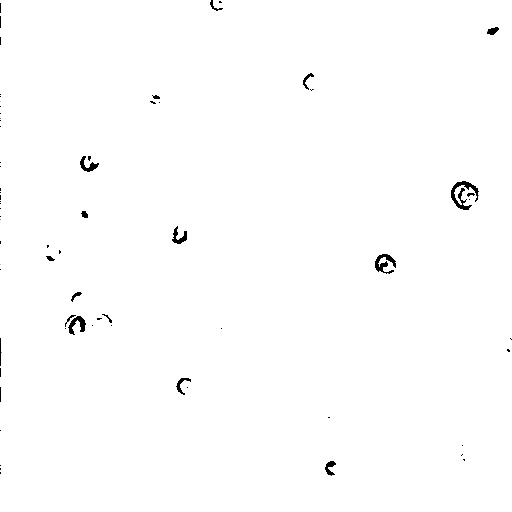micro-algae: (219, 223, 256, 260), (35, 231, 70, 268), (473, 10, 507, 43), (448, 179, 480, 210), (71, 201, 104, 227), (1, 0, 26, 33), (83, 312, 111, 340), (451, 444, 479, 471), (61, 311, 87, 337), (303, 0, 353, 13), (374, 251, 399, 273), (303, 68, 323, 91), (494, 329, 511, 356), (79, 151, 99, 172), (68, 288, 89, 308), (170, 223, 189, 244), (175, 376, 193, 397), (0, 341, 11, 373), (325, 457, 341, 477), (208, 0, 229, 10)
